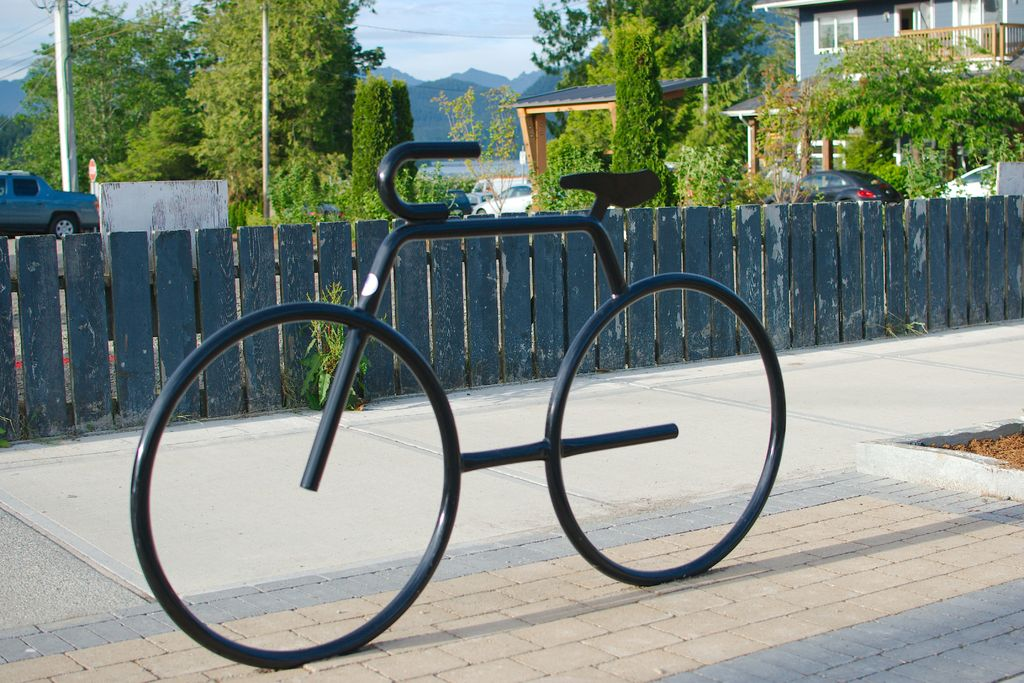Bike_away: (138, 173, 802, 683)
